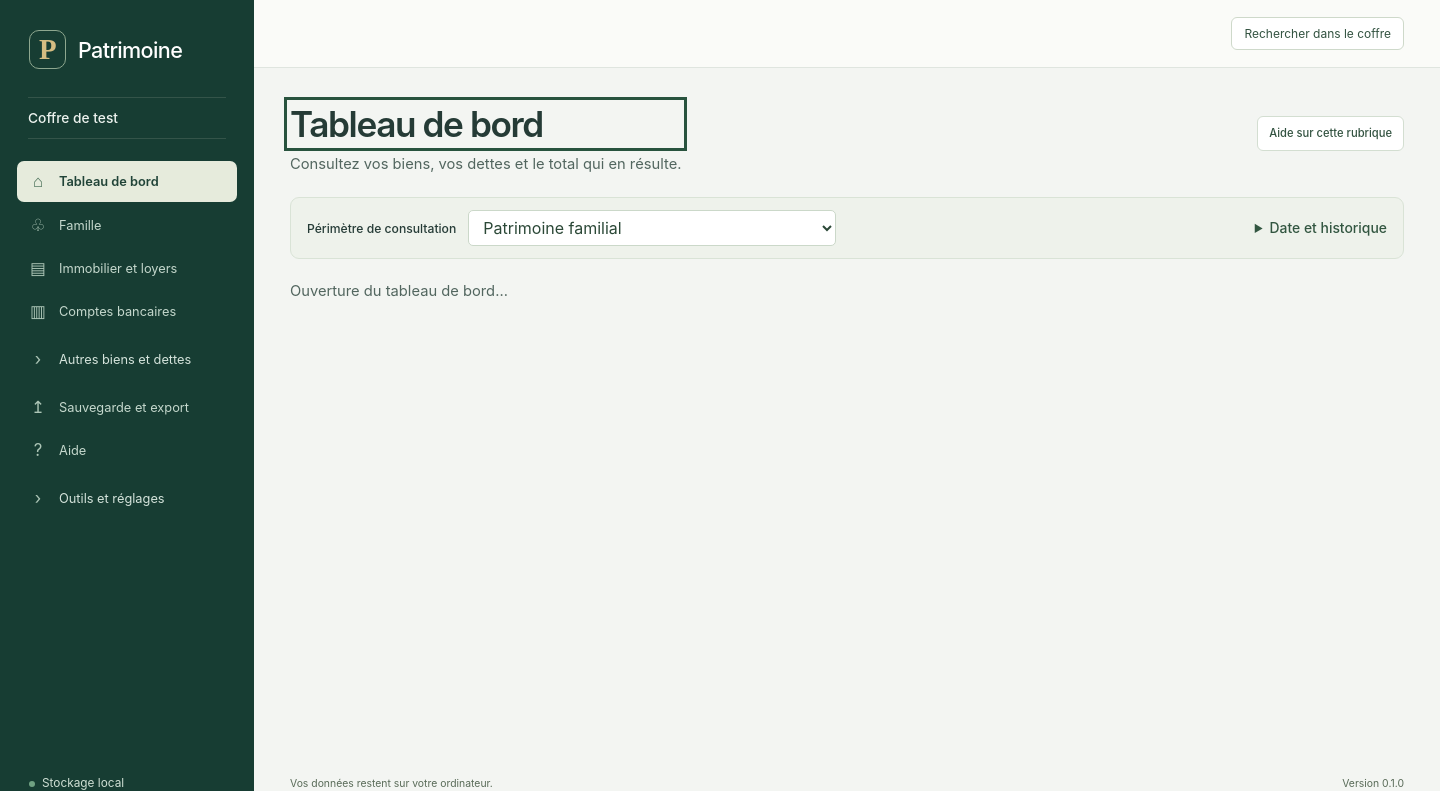
Test case: Date économique et connaissances globales › consulte K=0 sans écriture puis retrouve les fiches et actions aux connaissances actuelles
Expected: the text "Coffre de test" is shown, [28,110,118,126]
Step 1. Click the button "♧ Famille" → (127, 225), box [17,205,237,245]
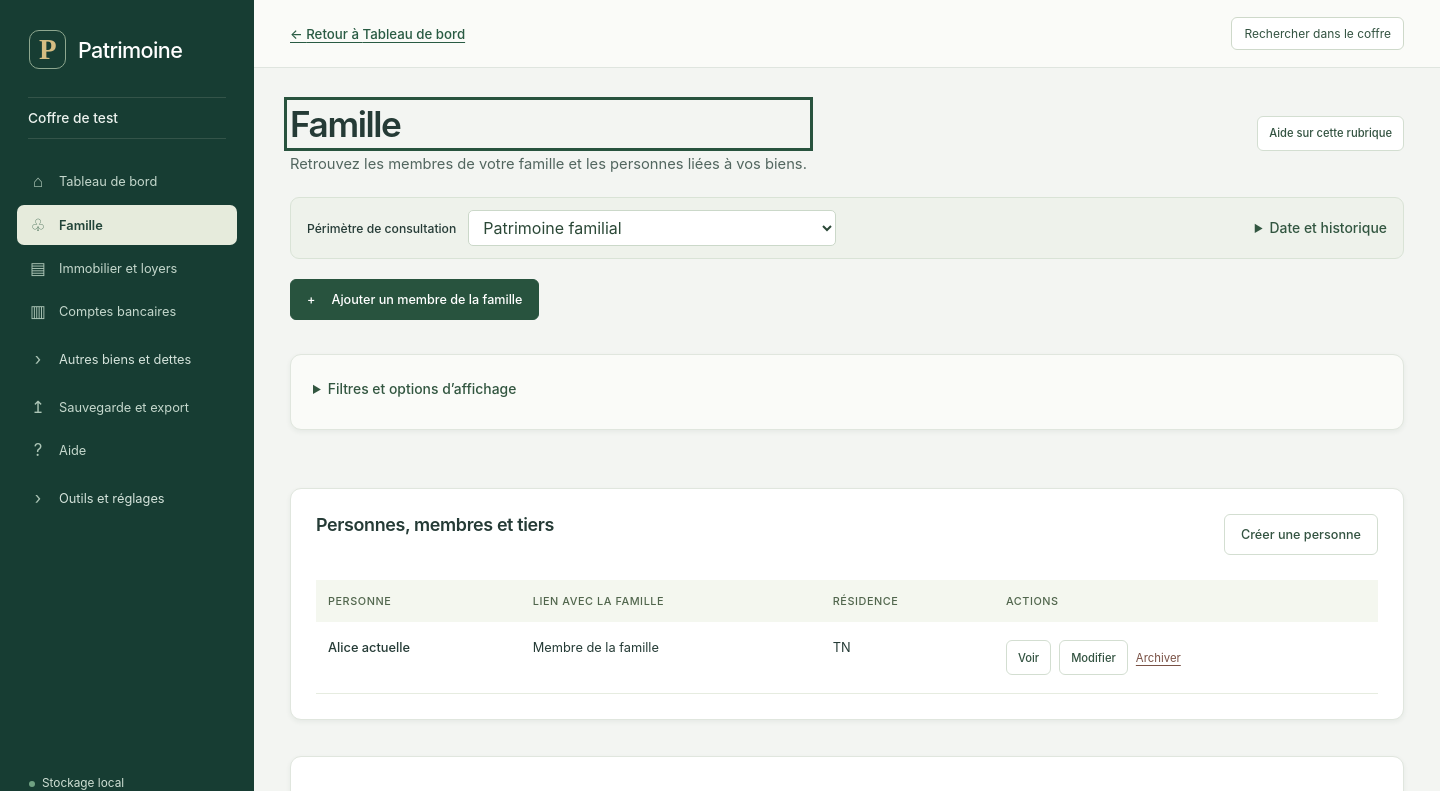
Expected: the table named "Personnes, membres et tiers" is shown, [316,580,1378,694]
Step 2. Click the heading "Date et historique" → (1328, 228), box [1270,220,1387,236]
(page scrolled)
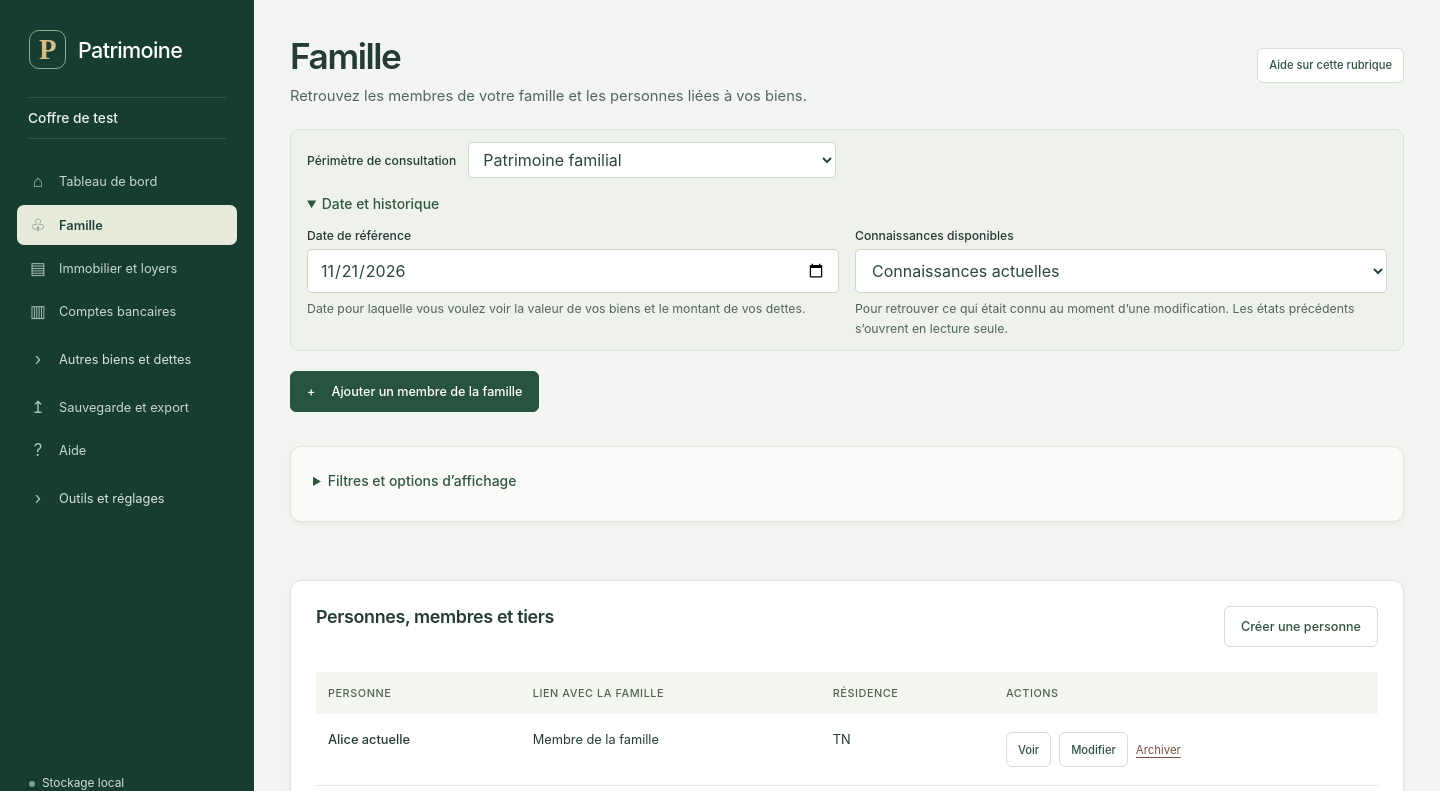
Step 3. Select "Séquence 0 · état initial" in the dropdown labelled "Connaissances disponibles" → (1121, 271), box [855,249,1387,293]
(page scrolled)
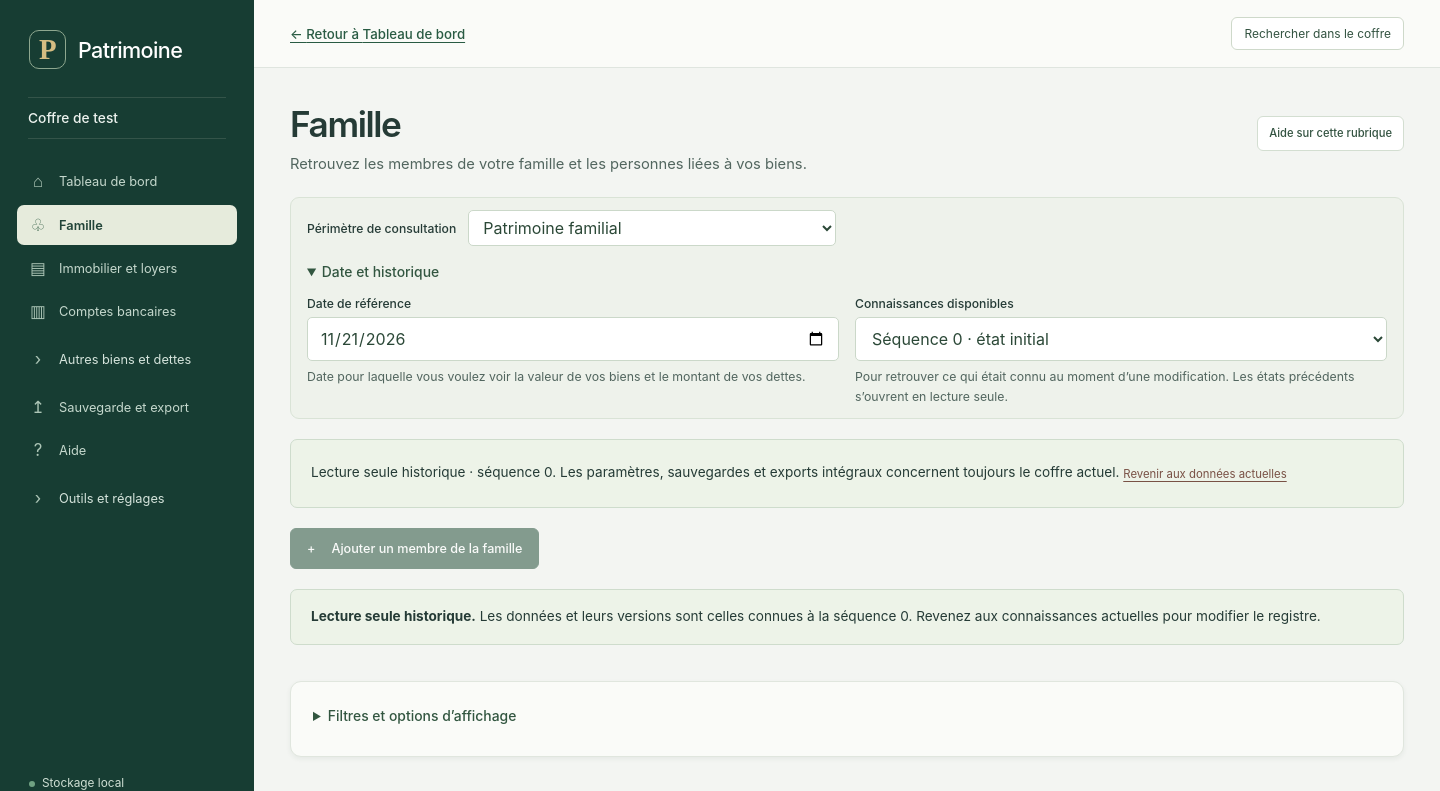
Expected: the text "Alice actuelle" is gone
Step 4. Select "Connaissances actuelles" in the dropdown labelled "Connaissances disponibles" → (1121, 339), box [855,317,1387,361]
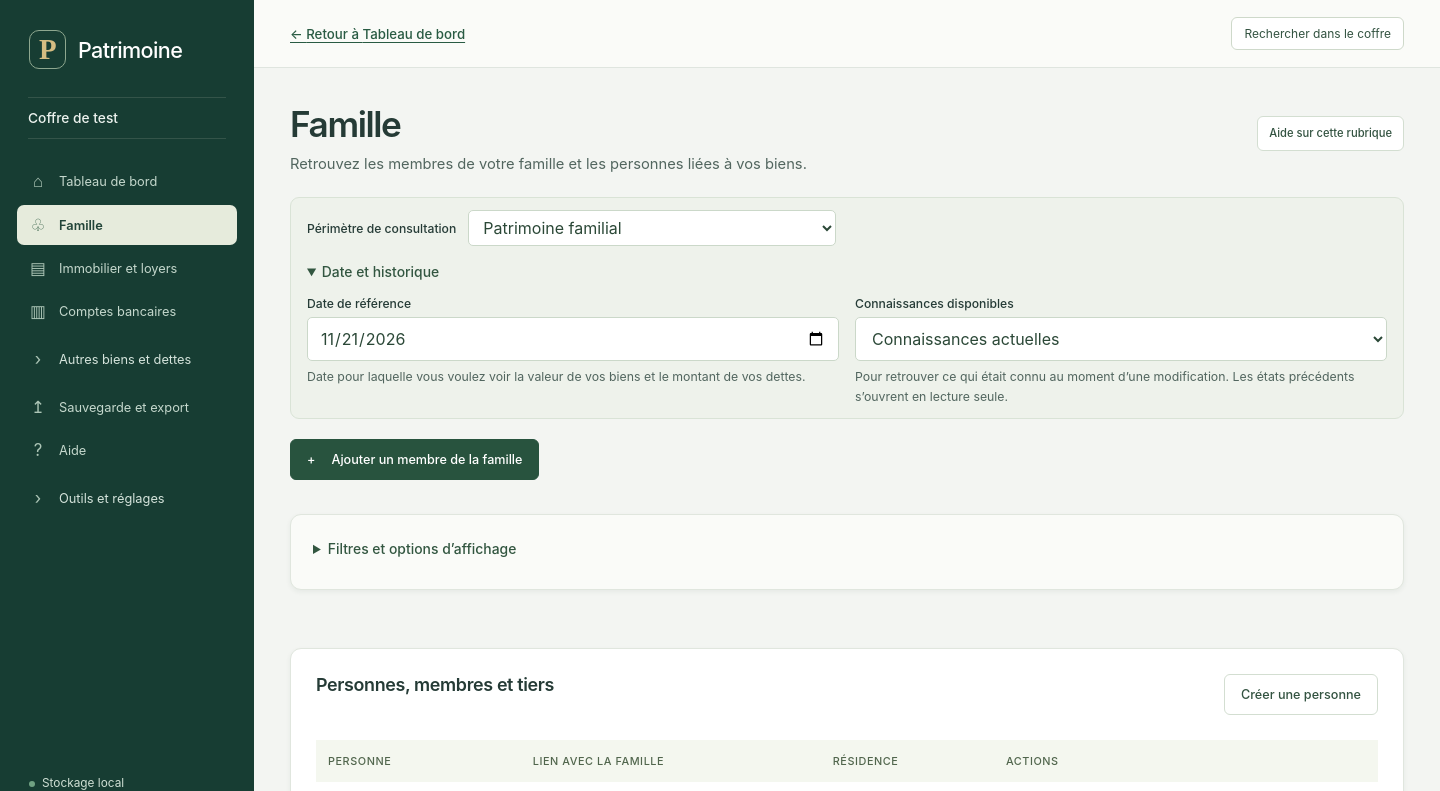
Expected: the date field labelled "Date de référence" is not empty, [307,317,839,361]
Expected: the button "Créer une personne" is enabled, [1224,674,1378,715]
